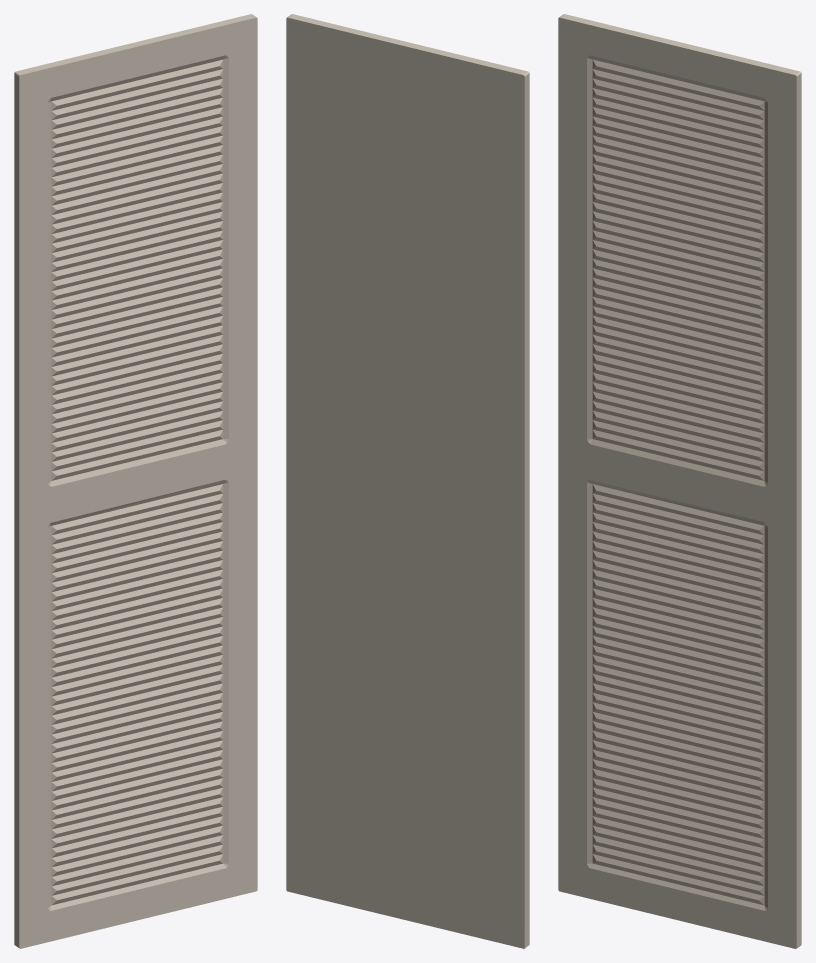
File: NRD BOY KPK 14.glb
3 views of the same model, side by side, from view 1: azimuth 30°, elevation 25°; view 2: azimuth 150°, elevation 25°; view 3: azimuth 330°, elevation 25° (orthographic).
Parts seen in each view (by area): view 1: NRD BOY KPK 14; view 2: NRD BOY KPK 14; view 3: NRD BOY KPK 14.
Part boxes in pixels (x1,y1,x2,y2): NRD BOY KPK 14: (14,14,257,948); NRD BOY KPK 14: (286,14,529,948); NRD BOY KPK 14: (558,14,801,948).
Size of the model in its own units: 0.4999 by 1.75 by 0.018.
